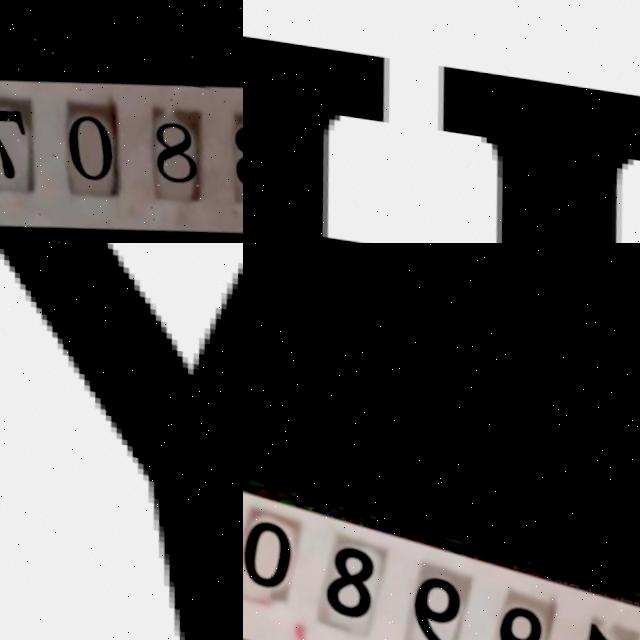0: (54, 89, 127, 189), (243, 497, 306, 603)
1: (567, 604, 637, 640)
3: (219, 93, 243, 195)
7: (0, 82, 44, 190)
8: (310, 524, 390, 629), (140, 92, 211, 190)
9: (394, 550, 475, 640), (483, 579, 555, 640)
H: (435, 65, 640, 243), (243, 33, 396, 243)
Y: (0, 243, 243, 640)
